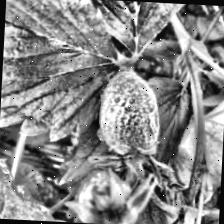Blossom Blight: (86, 68, 179, 194)
